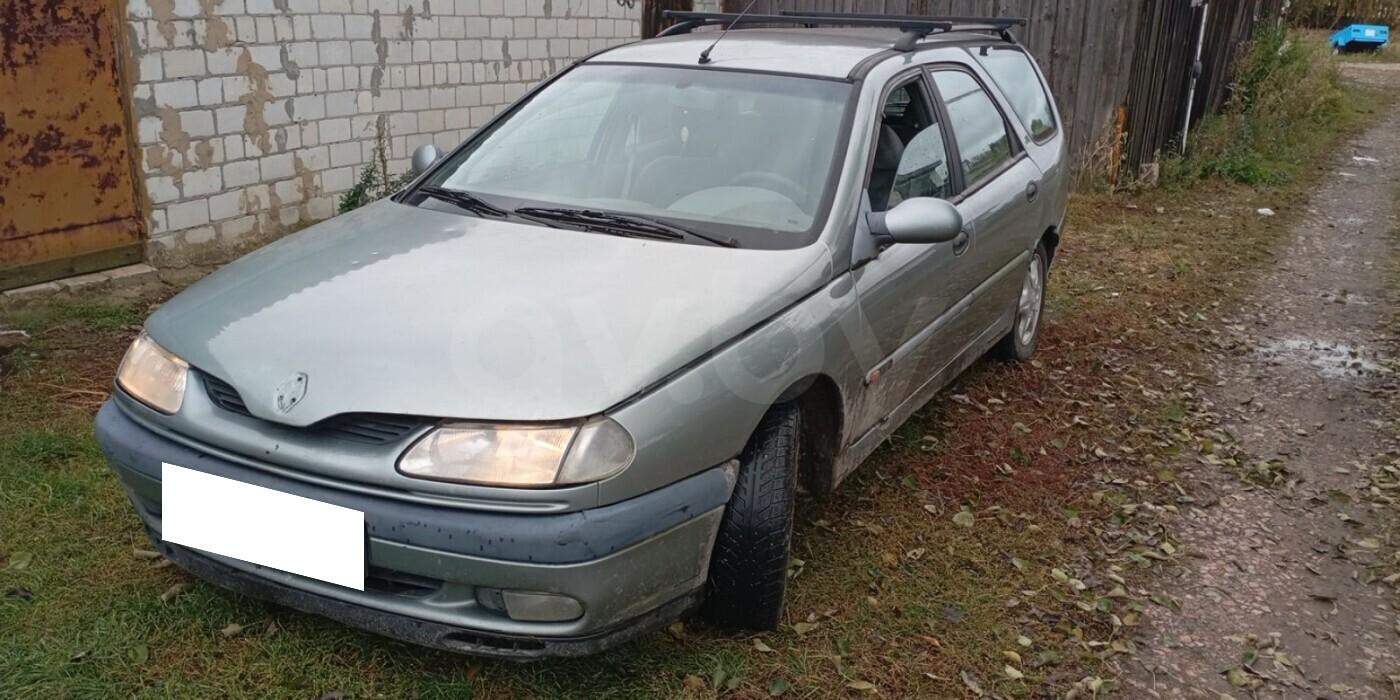Lahuna_1993-1999: (98, 9, 1077, 661)
